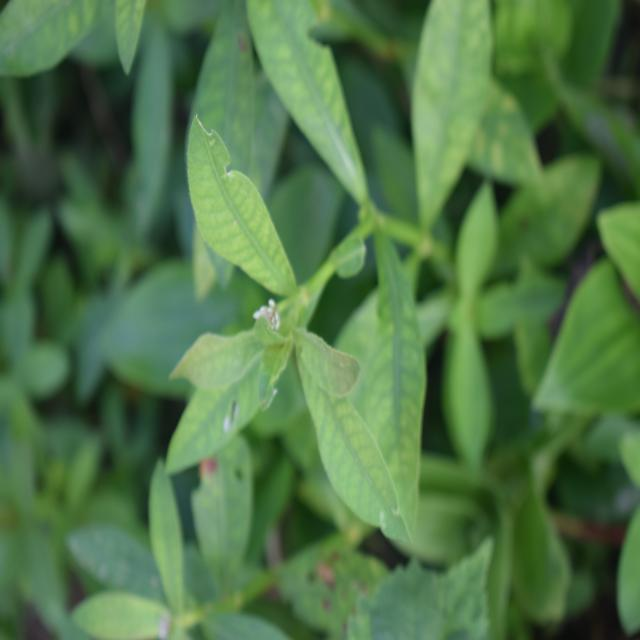Alligatorweed: (160, 89, 427, 556)
